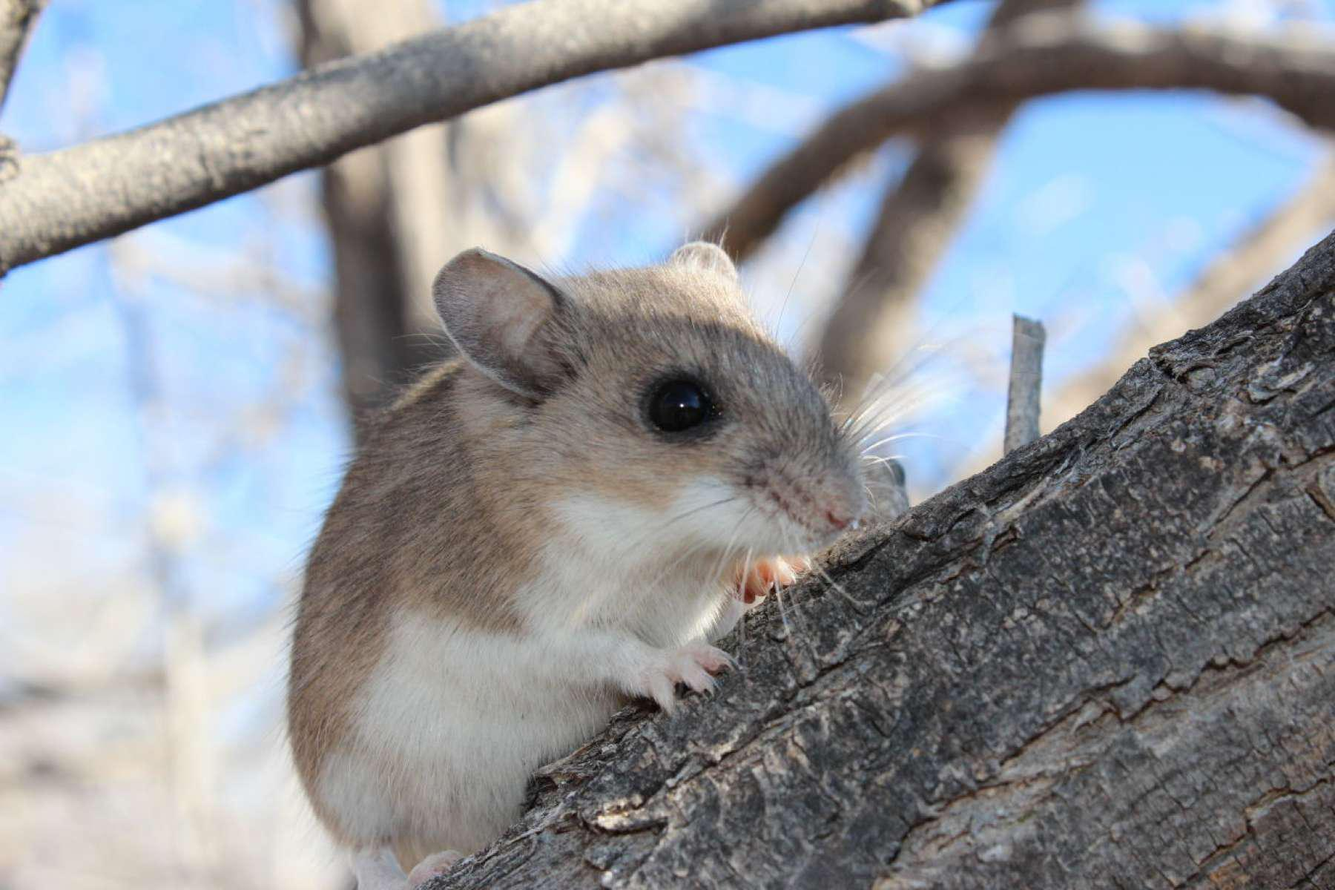rat: (283, 239, 873, 886)
